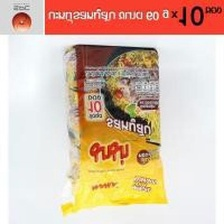snack: (52, 38, 174, 223)
